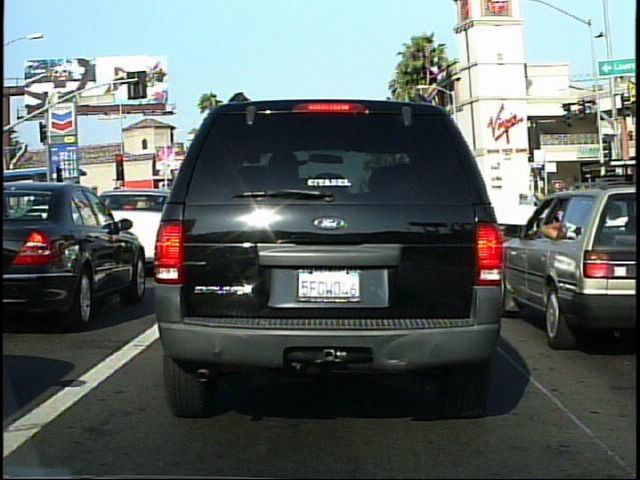person: (588, 183, 617, 240), (557, 181, 577, 237)
